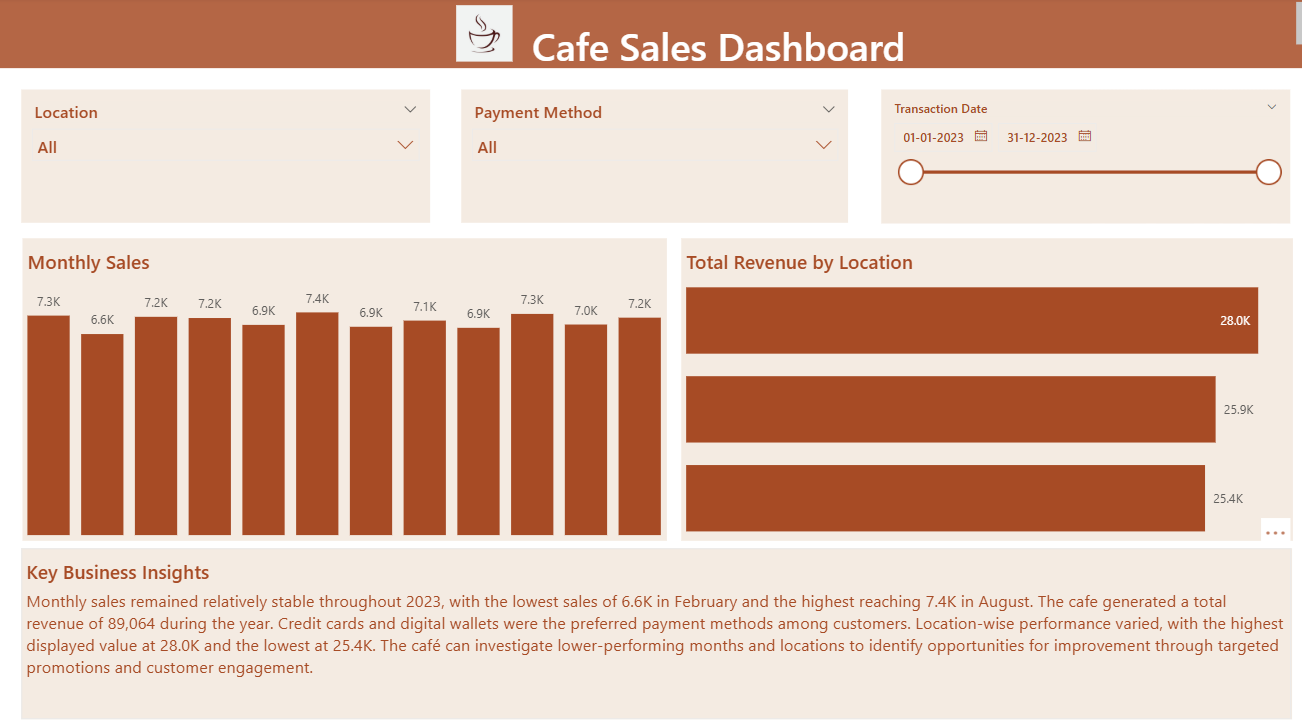

The page's visual inventory and layout, read from the dashboard file:
{"tool":"powerbi","page":{"name":"Insights & Analysis","canvas":[1280,720],"ordinal":1},"visuals":[{"type":"textbox","title":"Cafe Sales Dashboard","box":[0,0,1280.6,69.4],"z":0},{"type":"image","box":[441.2,0,64.7,70.6],"z":1000},{"type":"slicer","fields":{"Values":["clean_cafe_sales.Location"]},"box":[21.1,90.6,399.7,130.3],"z":2000},{"type":"slicer","fields":{"Values":["clean_cafe_sales.Payment Method"]},"box":[451.8,90.6,378.6,130.3],"z":3000},{"type":"slicer","fields":{"Values":["clean_cafe_sales.Transaction Date"]},"box":[862.7,90.6,399.7,130.3],"z":4000},{"type":"columnChart","title":"Monthly Sales","fields":{"Category":["clean_cafe_sales.Transaction Date.Variation.Date Hierarchy.Month"],"Y":["Sum(clean_cafe_sales.Clean Total Spent)"]},"box":[21.5,235.4,630.4,296.2],"z":5000},{"type":"clusteredBarChart","fields":{"Category":["clean_cafe_sales.Location"],"Y":["Sum(clean_cafe_sales.Clean Total Spent)"]},"box":[666,235.8,598.1,296.2],"z":6000},{"type":"textbox","title":"Key Business Insights","box":[20.7,539.7,1243.1,167.2],"z":7000}]}

Visuals, with their boxes in screenshot pixels (x1, y1, x2, y2), scaled from the page's 1280x720 canvas onto the 1302x721 screenshot:
"Cafe Sales Dashboard" textbox: [left=0, top=0, right=1301, bottom=69]
image: [left=449, top=0, right=515, bottom=71]
slicer - clean_cafe_sales.Location: [left=21, top=91, right=428, bottom=221]
slicer - clean_cafe_sales.Payment Method: [left=460, top=91, right=845, bottom=221]
slicer - clean_cafe_sales.Transaction Date: [left=878, top=91, right=1284, bottom=221]
"Monthly Sales" columnChart: [left=22, top=236, right=663, bottom=532]
clusteredBarChart - clean_cafe_sales.Location x Sum(clean_cafe_sales.Clean Total Spent): [left=677, top=236, right=1286, bottom=533]
"Key Business Insights" textbox: [left=21, top=540, right=1286, bottom=708]
